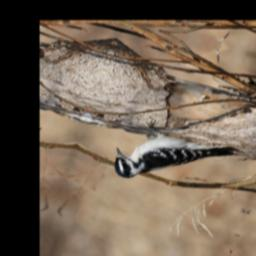Woodpecker: (107, 112, 246, 203)
